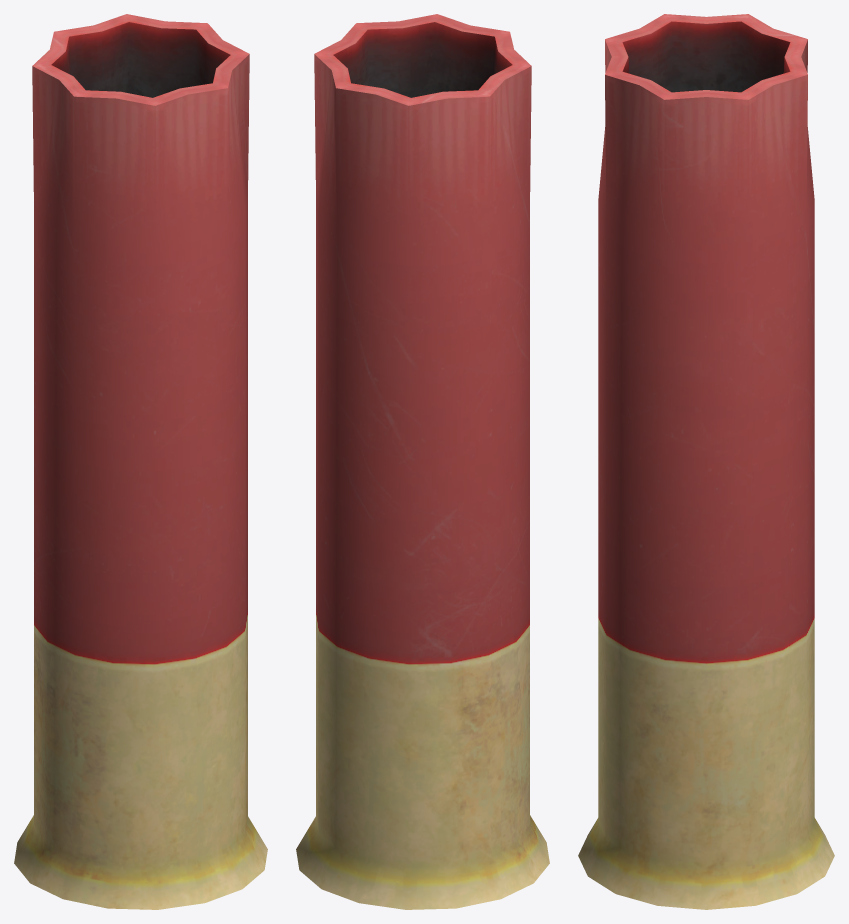
Rendered from SM_Ammo_04a.glb.
The picture shows the model from 3 angles, left to right: view 1: azimuth 30°, elevation 25°; view 2: azimuth 150°, elevation 25°; view 3: azimuth 270°, elevation 25°; orthographic projection.
Visible parts, largest first — view 1: SM_Ammo_04a; view 2: SM_Ammo_04a; view 3: SM_Ammo_04a.
Part boxes in pixels (x1=…): SM_Ammo_04a: x1=14, y1=14, x2=267, y2=909; SM_Ammo_04a: x1=296, y1=14, x2=549, y2=909; SM_Ammo_04a: x1=578, y1=14, x2=834, y2=909.
Size of the model in its own units: 0.0196 by 0.0673 by 0.0196.
Materials: 1 (1 with a texture image).
